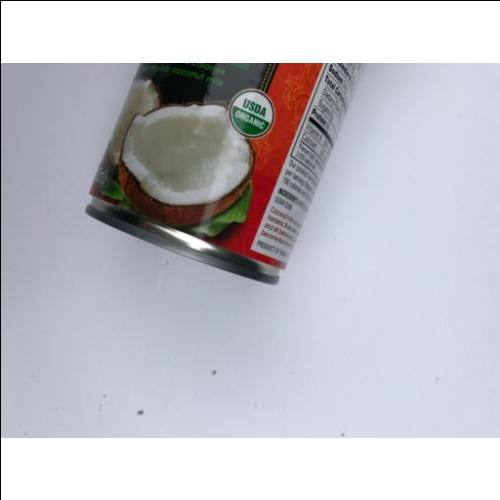metal: (89, 66, 344, 287)
